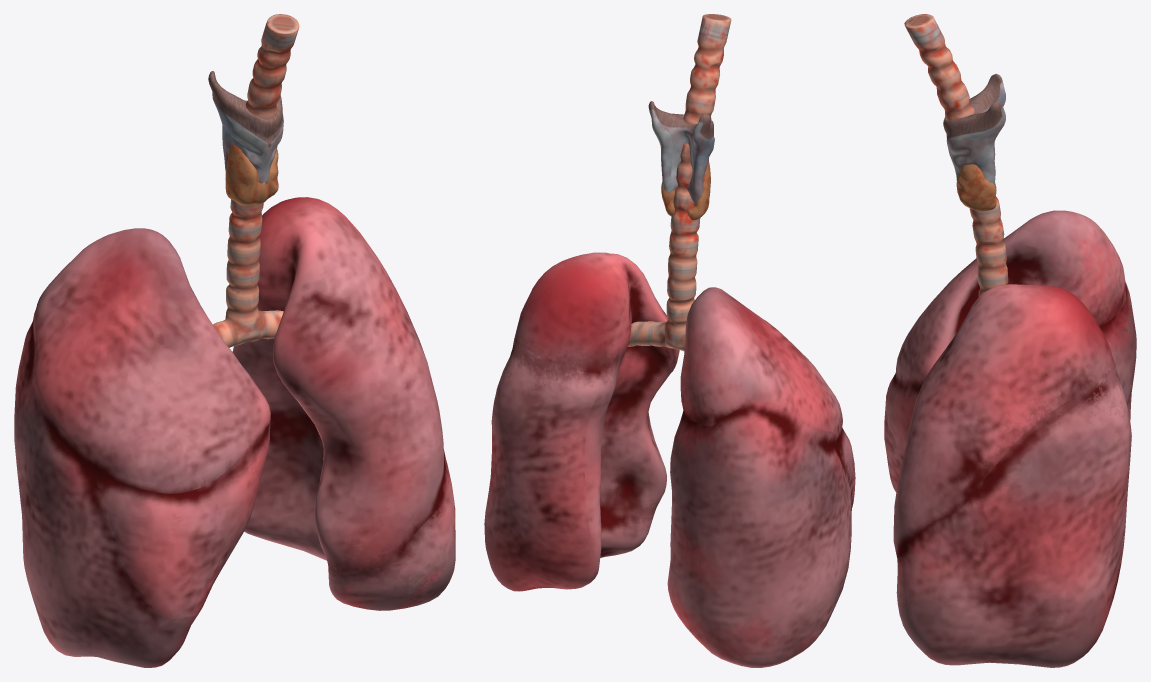
The model's file is PRP_Lungs.glb.
3 views of the same model, side by side, from view 1: azimuth 30°, elevation 25°; view 2: azimuth 150°, elevation 25°; view 3: azimuth 270°, elevation 25° (orthographic). The views are drawn at different scales.
Visible parts, largest first — view 1: thairoid01:low_part02_Group6344:Group24638_thairoid01:lungh_, thairoid01:low_part01_Group6344:Group18522_thairoid01:lungh_; view 2: thairoid01:low_part02_Group6344:Group24638_thairoid01:lungh_, thairoid01:low_part01_Group6344:Group18522_thairoid01:lungh_; view 3: thairoid01:low_part02_Group6344:Group24638_thairoid01:lungh_, thairoid01:low_part01_Group6344:Group18522_thairoid01:lungh_.
Boxes of the visible parts, x1=… form: thairoid01:low_part02_Group6344:Group24638_thairoid01:lungh_: x1=14, y1=197, x2=455, y2=667; thairoid01:low_part01_Group6344:Group18522_thairoid01:lungh_: x1=208, y1=14, x2=299, y2=347; thairoid01:low_part02_Group6344:Group24638_thairoid01:lungh_: x1=484, y1=252, x2=855, y2=667; thairoid01:low_part01_Group6344:Group18522_thairoid01:lungh_: x1=627, y1=14, x2=731, y2=351; thairoid01:low_part02_Group6344:Group24638_thairoid01:lungh_: x1=884, y1=210, x2=1136, y2=667; thairoid01:low_part01_Group6344:Group18522_thairoid01:lungh_: x1=904, y1=14, x2=1008, y2=296.
Size of the model in its own units: 0.2232 by 0.3686 by 0.1423.
Materials: 2 (2 with a texture image).
